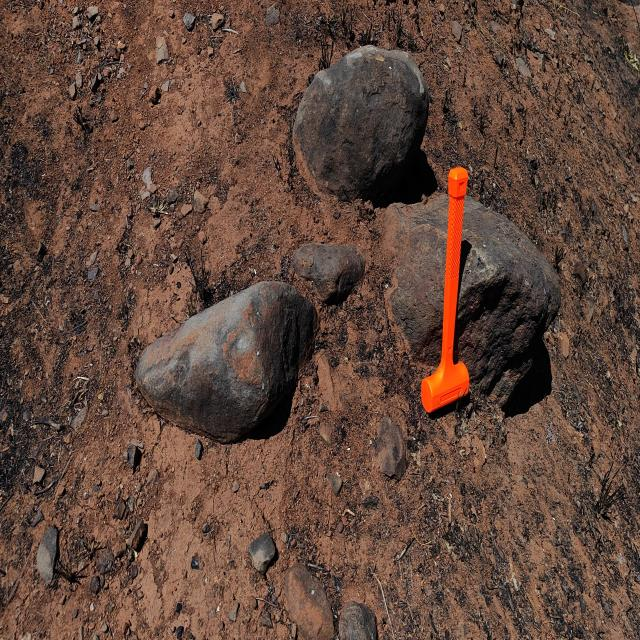Orange_hammer: (420, 165, 470, 414)
